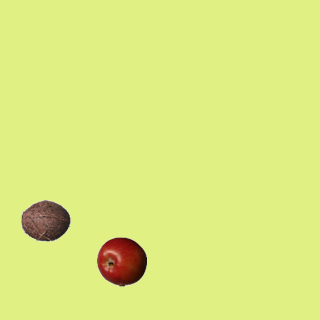Apple Braeburn: (96, 236, 146, 286)
Cocos: (20, 195, 70, 245)
